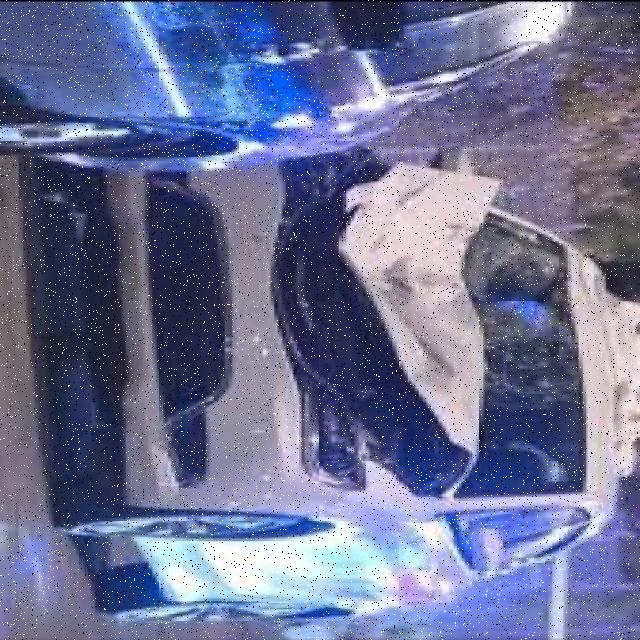damage: (276, 142, 587, 497)
